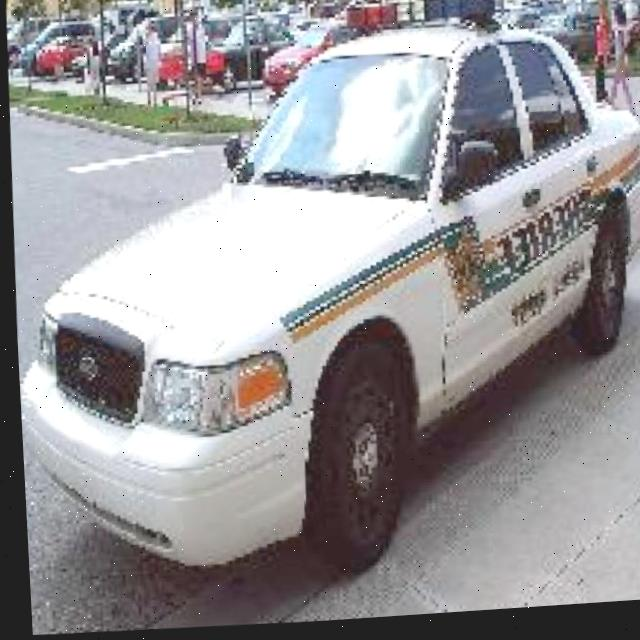emergency: (1, 0, 640, 595)
